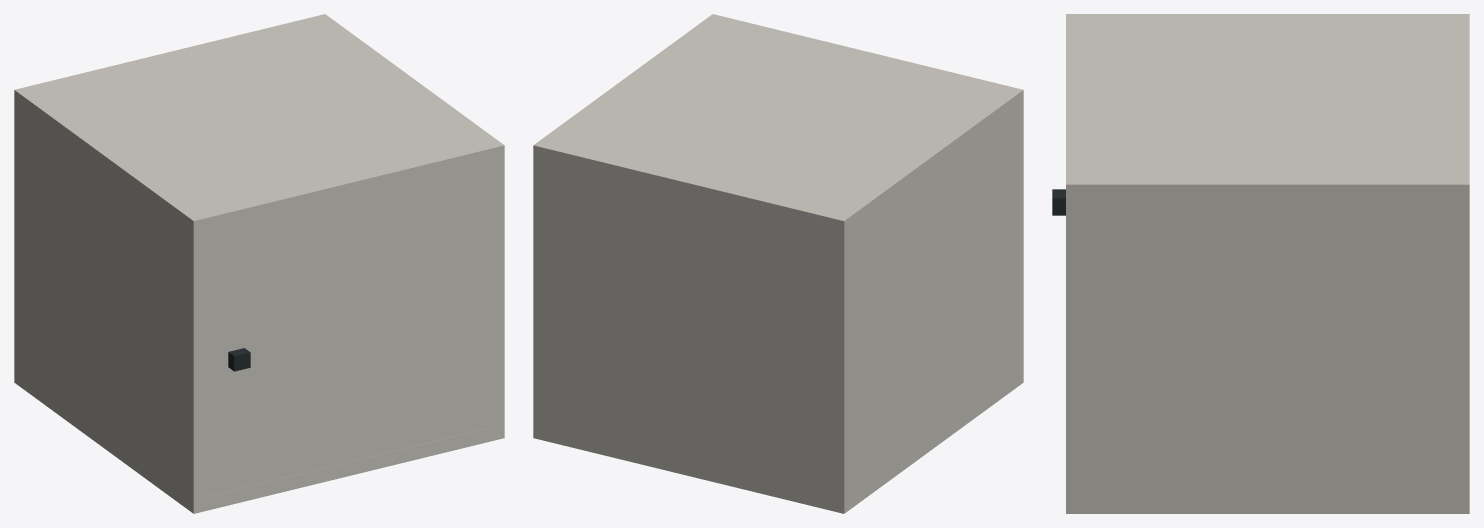
File: white_nightstand1.fbx
3 views of the same model, side by side, from view 1: azimuth 30°, elevation 25°; view 2: azimuth 150°, elevation 25°; view 3: azimuth 270°, elevation 25° (orthographic). The views are drawn at different scales.
Parts seen in each view (by area): view 1: Cube, Cube.001; view 2: Cube; view 3: Cube.
Boxes of the visible parts, <box> form: Cube: <box>14,14,504,513</box>; Cube.001: <box>209,164,488,495</box>; Cube: <box>533,14,1023,513</box>; Cube: <box>1066,14,1469,513</box>.
Bounding box in the file's own units: 200 × 180 × 207.
